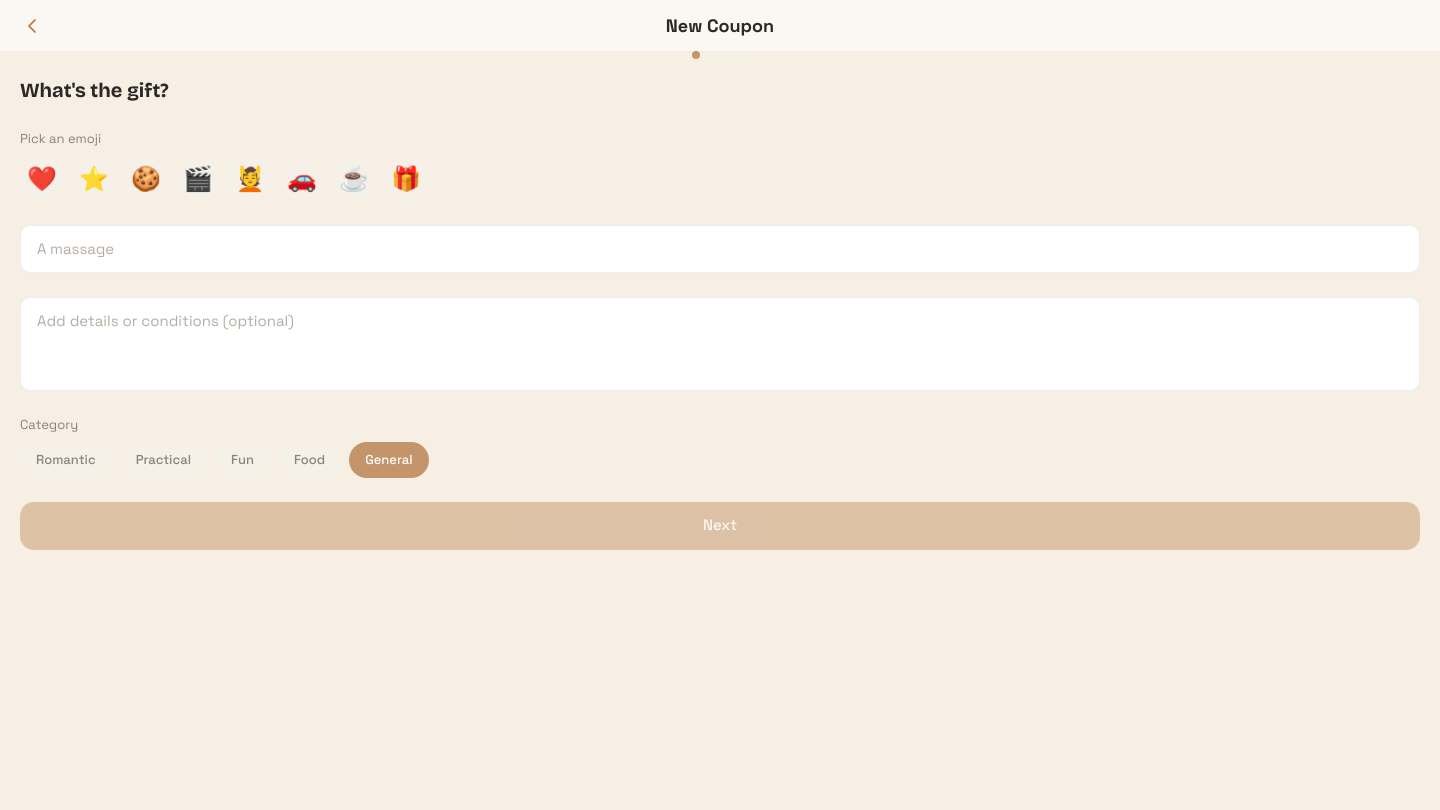
Test: CreateCouponPage › navigates back from Step 2 to Step 1
Note: Go to step 2
Type "Test" into the field with test id "title-input" at [720, 249], box [20,224,1420,273]
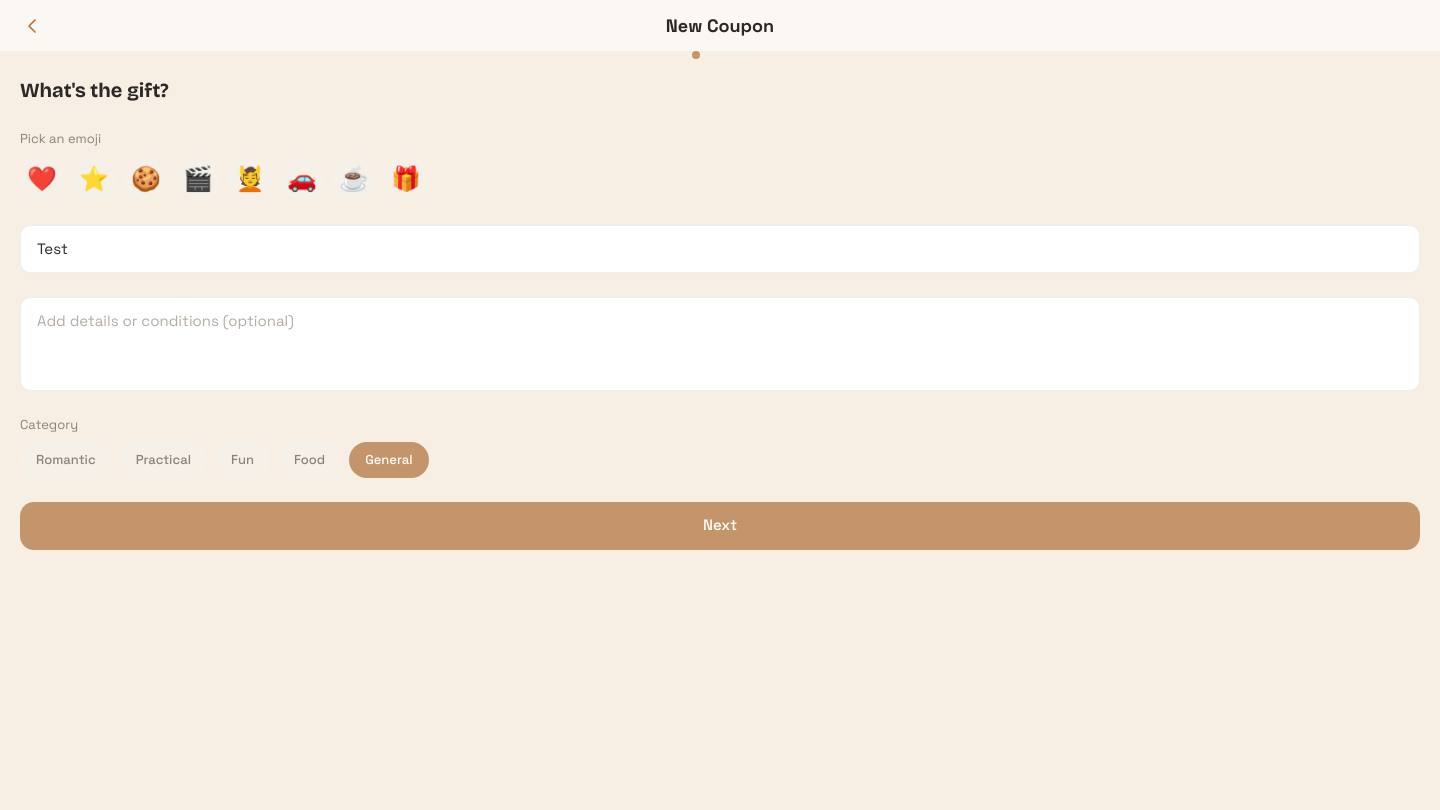
Expected: the button with test id "next-button" is enabled
Click the button with test id "next-button" at [720, 526], box [20,502,1420,550]
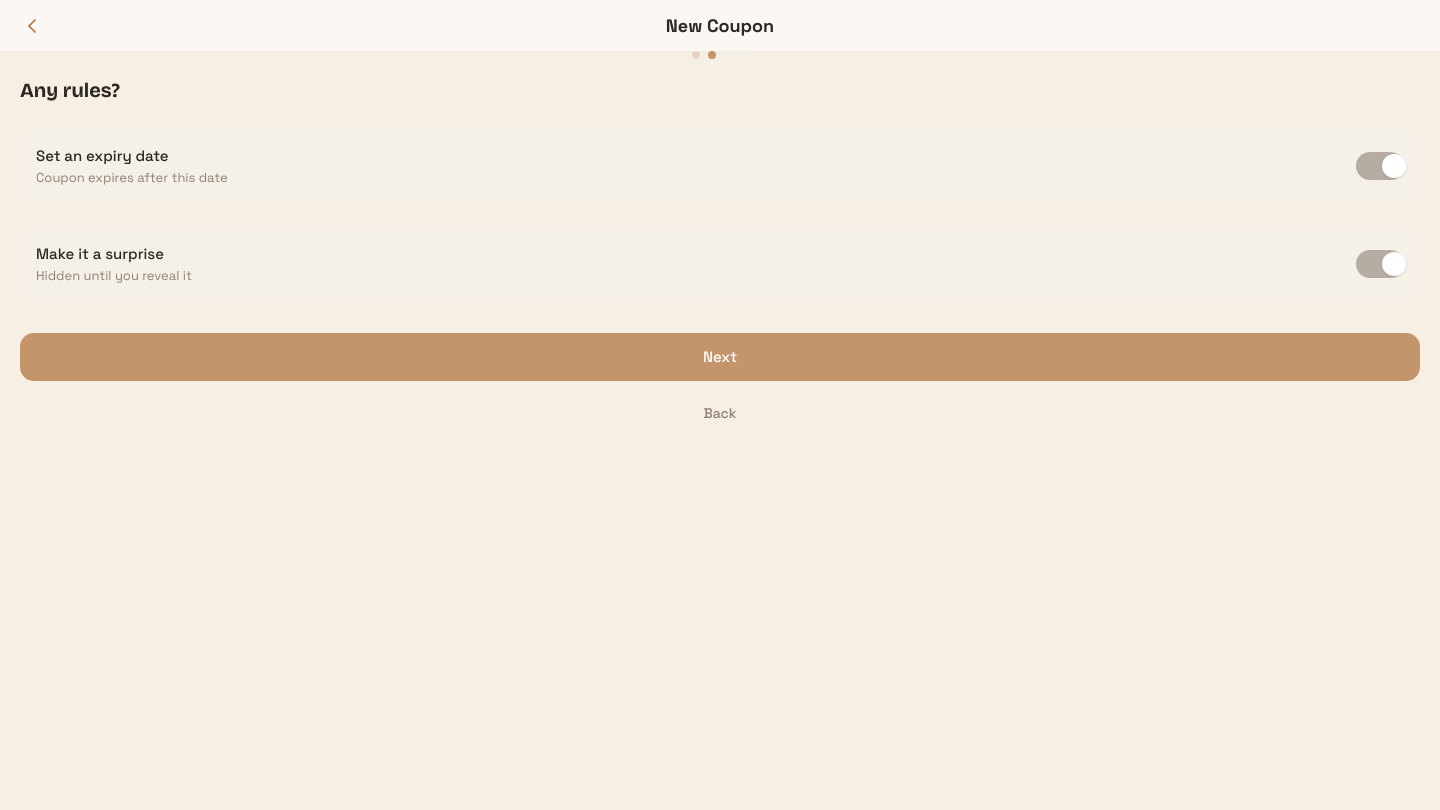
Expected: the element with test id "step2-form" is shown, [20,75,1420,433]
Note:  Go back
Click the button with test id "back-button" at [720, 413], box [20,393,1420,433]
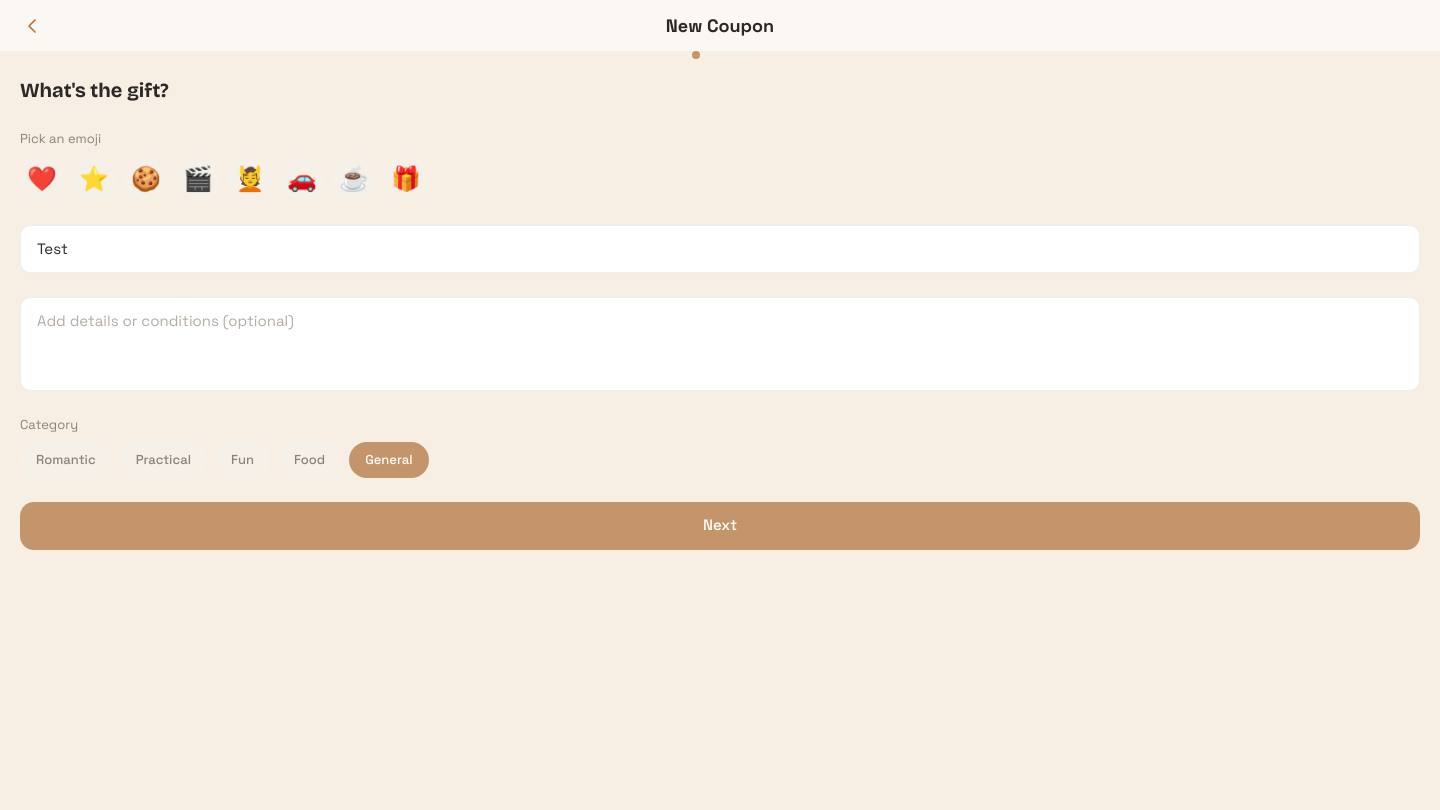
Expected: the form with test id "step1-form" is shown, [20,75,1420,550]
